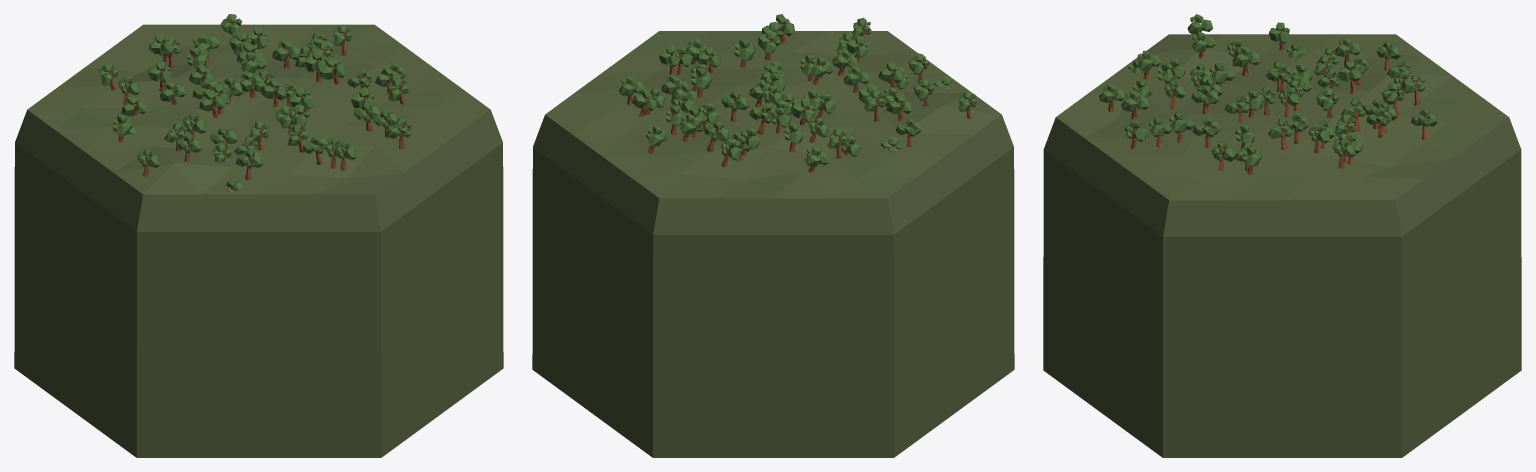
The model's file is forest.fbx.
3 views of the same model, side by side, from view 1: azimuth 30°, elevation 25°; view 2: azimuth 150°, elevation 25°; view 3: azimuth 270°, elevation 25° (orthographic). The views are drawn at different scales.
Visible parts, largest first — view 1: Cylinder.003; view 2: Cylinder.003; view 3: Cylinder.003, Icosphere.035.
Part boxes in pixels (box(x1,y1,x2,y2)): Cylinder.003: box(14, 24, 503, 457); Cylinder.003: box(532, 31, 1014, 457); Cylinder.003: box(1043, 34, 1521, 457); Icosphere.035: box(1232, 45, 1260, 76).
Bounding box in the file's own units: 173 × 136 × 200.
